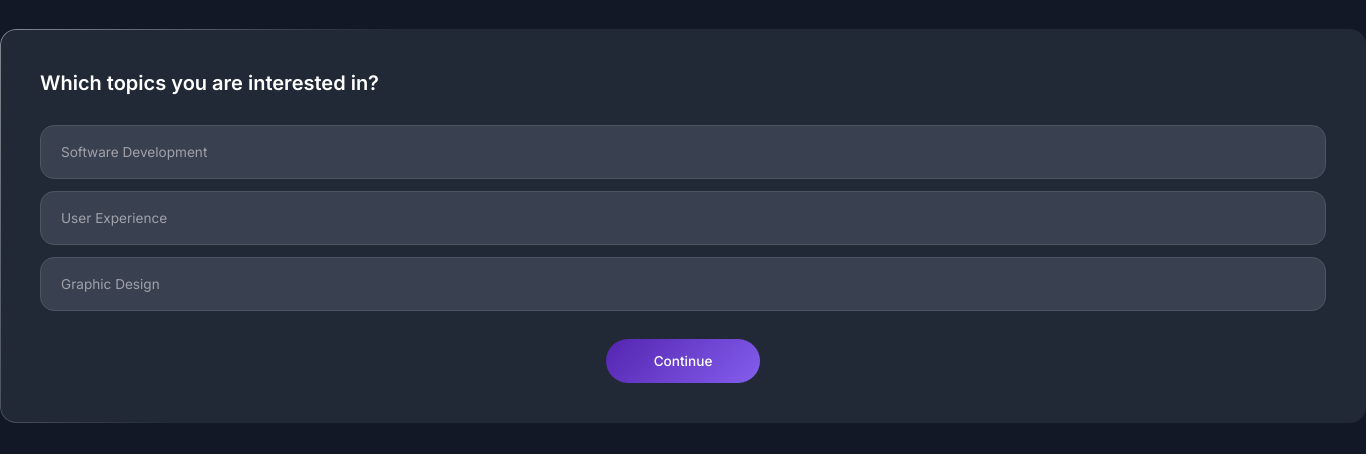
Scenario: Step2 › clears error when a topic is selected after error
Click the button "Continue": point(683, 361) [606,339,760,383]
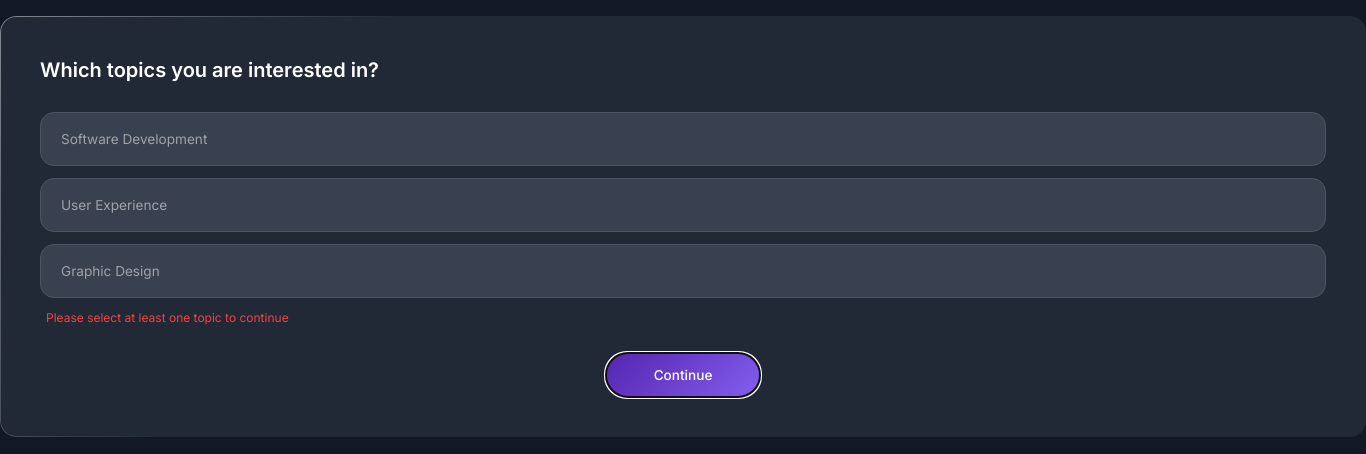
expect the message "Please select at least one topic to continue" is shown: met, box [46,310,289,324]
Click the button "User Experience": point(114, 204) [40,178,1326,232]
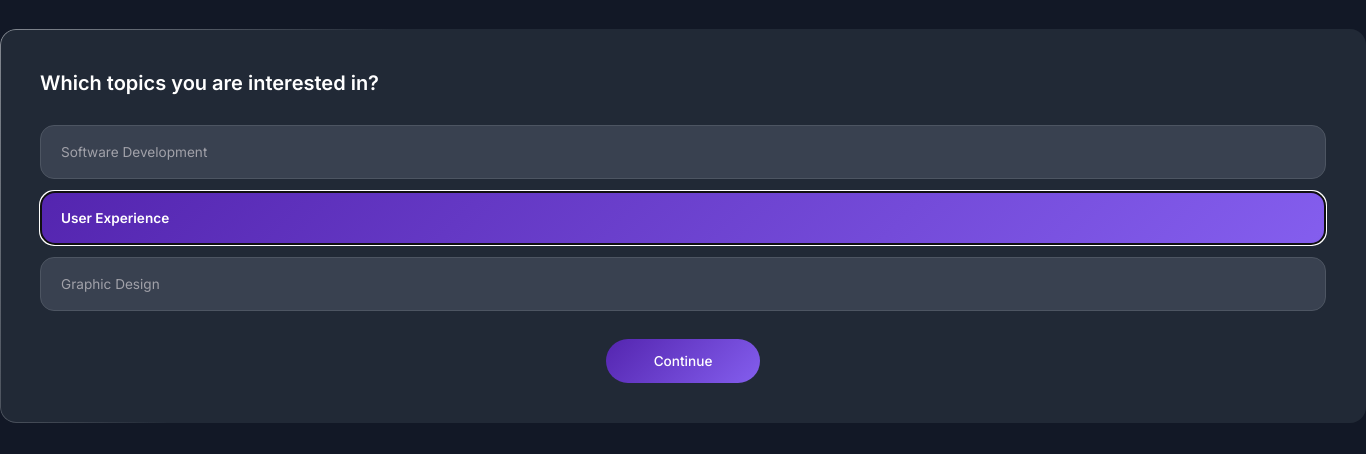
expect the message "Please select at least one topic to continue" is gone: met
